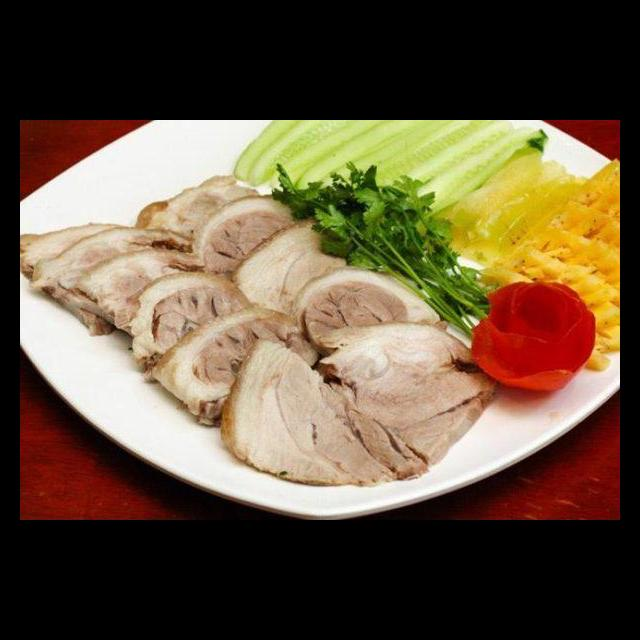thit heo: (211, 330, 433, 488), (313, 316, 511, 472), (148, 301, 327, 436), (25, 220, 213, 333), (220, 211, 359, 346), (281, 260, 456, 365), (118, 264, 267, 387), (21, 215, 152, 340), (185, 189, 332, 299), (73, 245, 224, 341), (129, 169, 265, 258)
